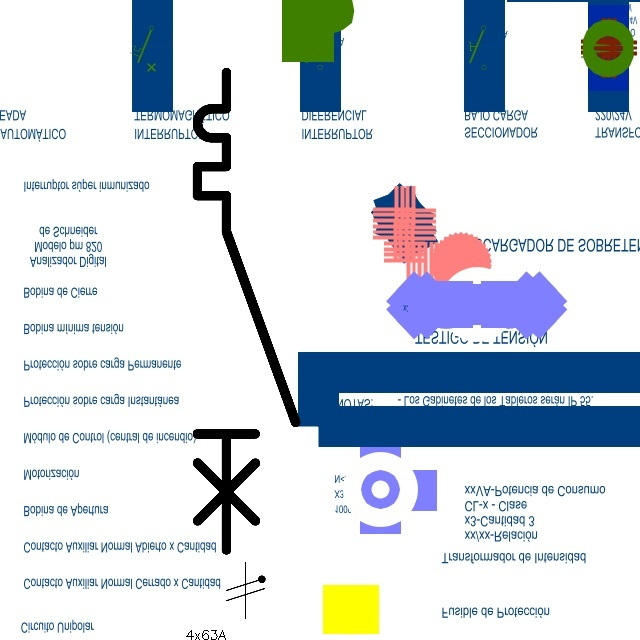interruptor_termomagnetico: (185, 60, 308, 562)
